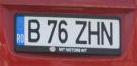6: (58, 19, 69, 44)
7: (47, 19, 57, 43)
B: (27, 19, 41, 43)
H: (88, 21, 100, 45)
N: (101, 21, 113, 46)
Z: (75, 20, 88, 45)
